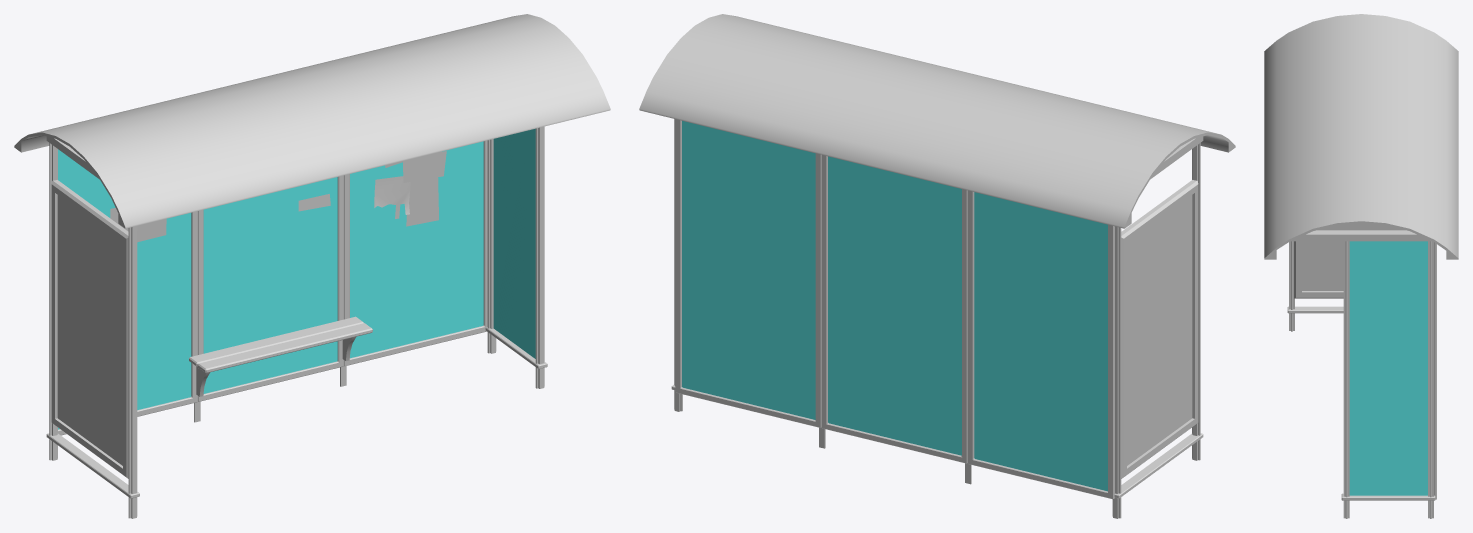
File: Bus_Stop_01_001 1.fbx
3 views of the same model, side by side, from view 1: azimuth 30°, elevation 25°; view 2: azimuth 150°, elevation 25°; view 3: azimuth 270°, elevation 25° (orthographic). The views are drawn at different scales.
Visible parts, largest first — view 1: Bus_Stop_01_001, Ads_01_001; view 2: Bus_Stop_01_001; view 3: Bus_Stop_01_001.
Part boxes in pixels (x1=…): Bus_Stop_01_001: x1=14, y1=14, x2=610, y2=518; Ads_01_001: x1=110, y1=151, x2=446, y2=242; Bus_Stop_01_001: x1=639, y1=14, x2=1235, y2=518; Bus_Stop_01_001: x1=1264, y1=14, x2=1458, y2=518.
Bounding box in the file's own units: 332 × 131 × 229.
